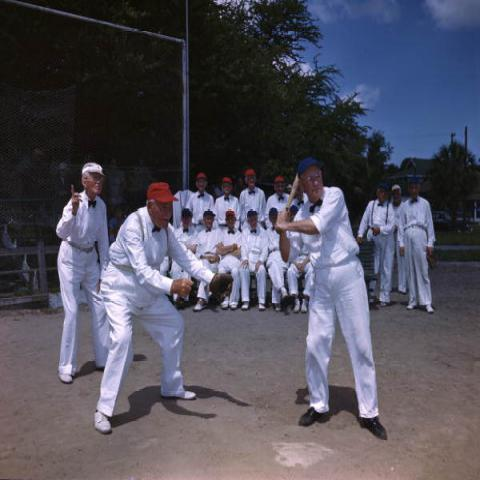car: (432, 212, 472, 234)
